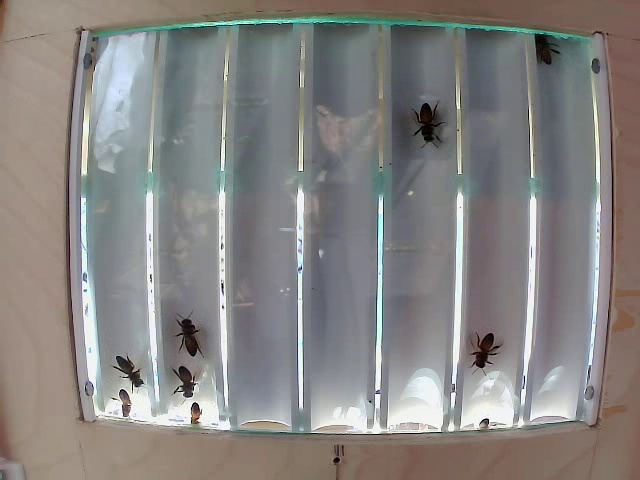bee: (410, 87, 445, 148), (179, 311, 214, 363), (169, 355, 207, 399), (103, 341, 146, 379), (455, 323, 489, 368)
